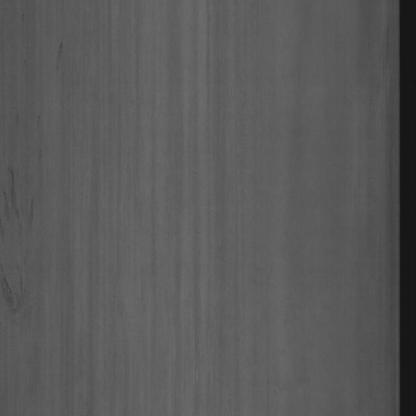water_spot: (3, 154, 43, 326)
